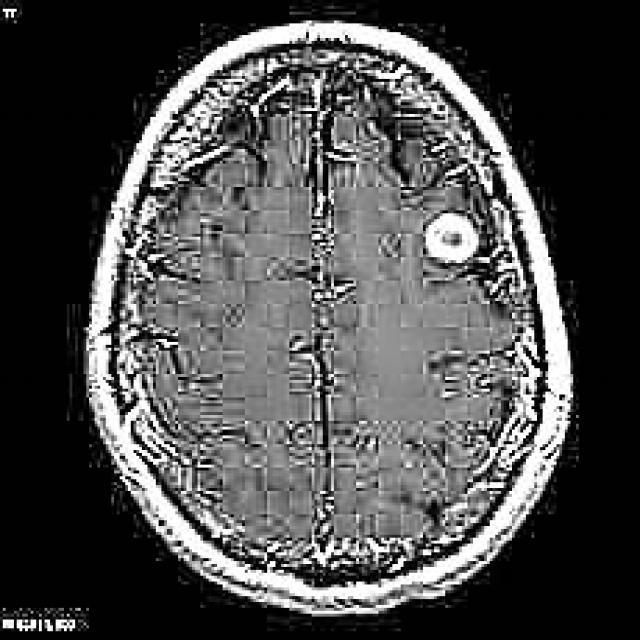Tumor: (418, 208, 489, 274)
